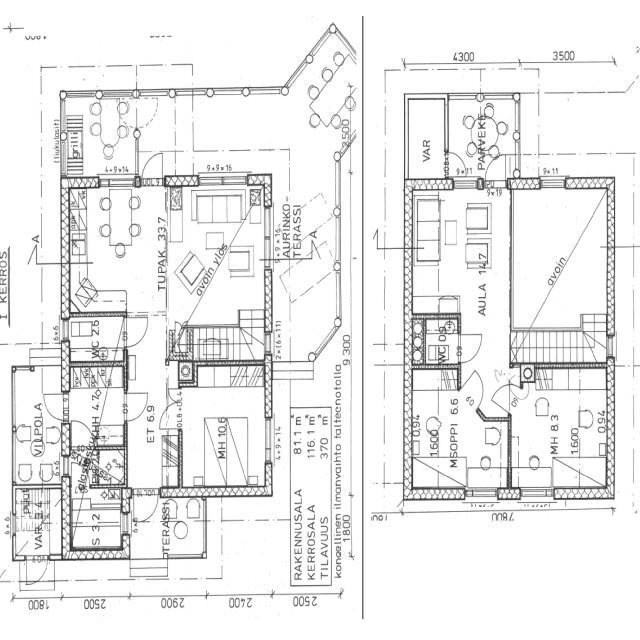door: (460, 369, 492, 412), (490, 374, 522, 414), (134, 488, 158, 528), (40, 394, 70, 421), (124, 318, 150, 348), (124, 394, 150, 422), (142, 152, 162, 188), (486, 154, 506, 190), (72, 418, 94, 450), (26, 556, 48, 587), (458, 335, 482, 362), (158, 403, 182, 429), (444, 152, 468, 177), (72, 463, 89, 488), (169, 390, 182, 402)
